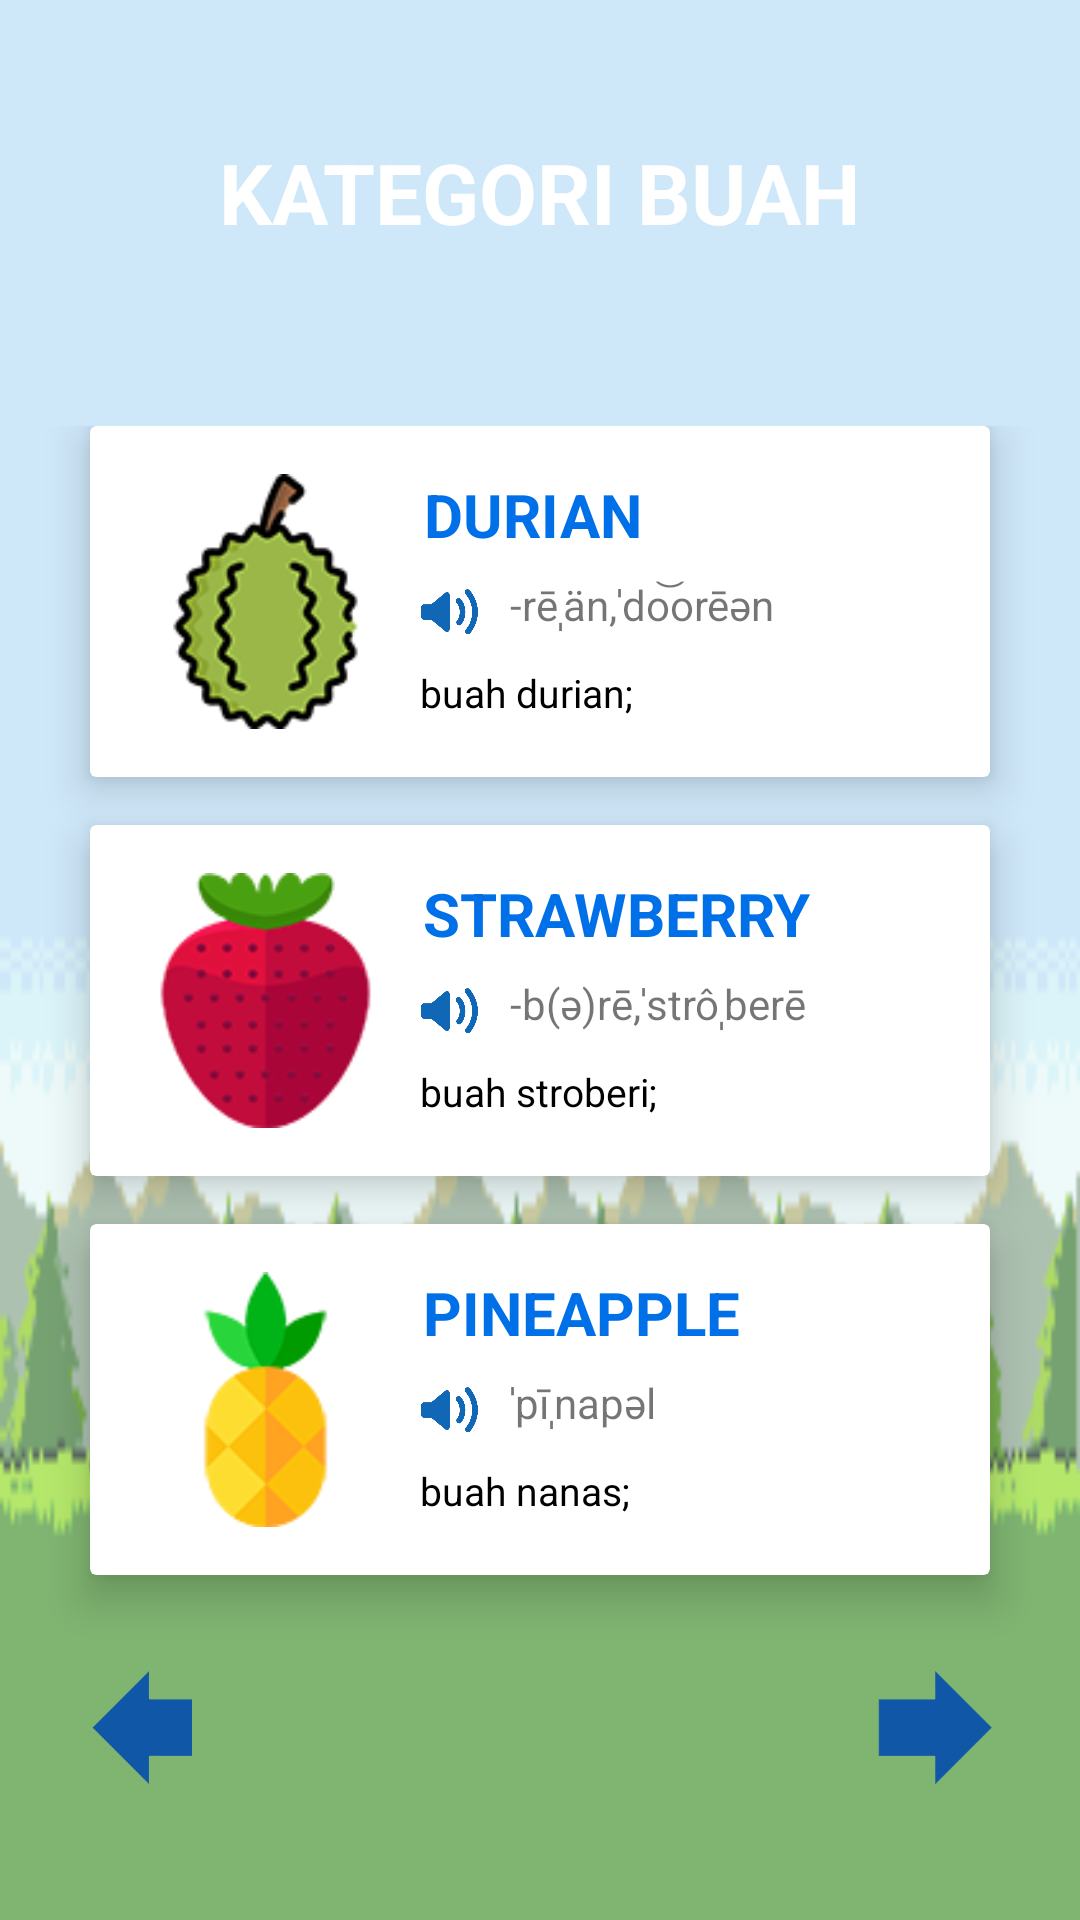

Screen size 1080 × 1920. Icon name, then its box in pixels as (x1, y1, x2, y2):
audio: (421, 589, 478, 634), (421, 988, 478, 1033), (421, 1387, 478, 1432)
panahnext: (878, 1671, 992, 1784)
